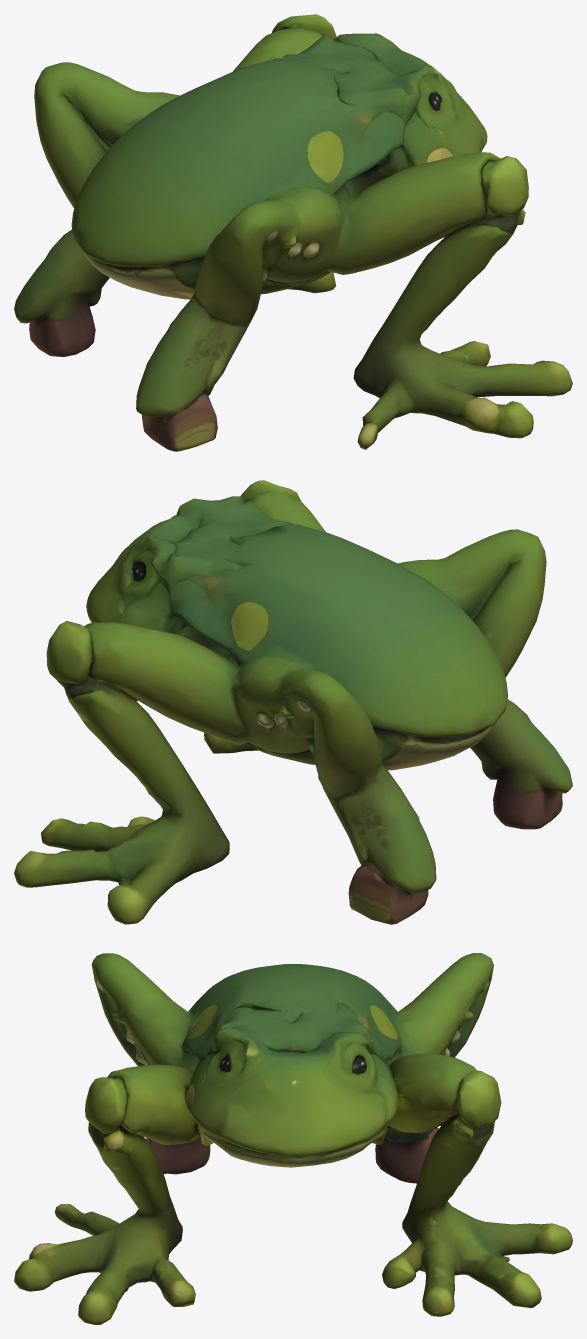
Rendered from legs.glb.
3 renders of one model, top to bottom at view 1: azimuth 30°, elevation 25°; view 2: azimuth 150°, elevation 25°; view 3: azimuth 270°, elevation 25°, orthographic. The views are drawn at different scales.
Parts seen in each view (by area): view 1: tripo_node_54665ec9-a565-45a1-a261-3e080fd99fb2; view 2: tripo_node_54665ec9-a565-45a1-a261-3e080fd99fb2; view 3: tripo_node_54665ec9-a565-45a1-a261-3e080fd99fb2.
Part boxes in pixels (bbox=[...]): tripo_node_54665ec9-a565-45a1-a261-3e080fd99fb2: bbox=[14, 14, 572, 451]; tripo_node_54665ec9-a565-45a1-a261-3e080fd99fb2: bbox=[14, 480, 572, 924]; tripo_node_54665ec9-a565-45a1-a261-3e080fd99fb2: bbox=[14, 953, 572, 1324].
Size of the model in its own units: 0.77 by 0.5126 by 1.
Materials: 1 (1 with a texture image).
